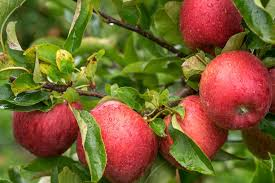apple: (78, 101, 159, 182), (200, 51, 270, 128), (9, 91, 79, 161), (157, 94, 225, 165), (178, 3, 242, 49)
